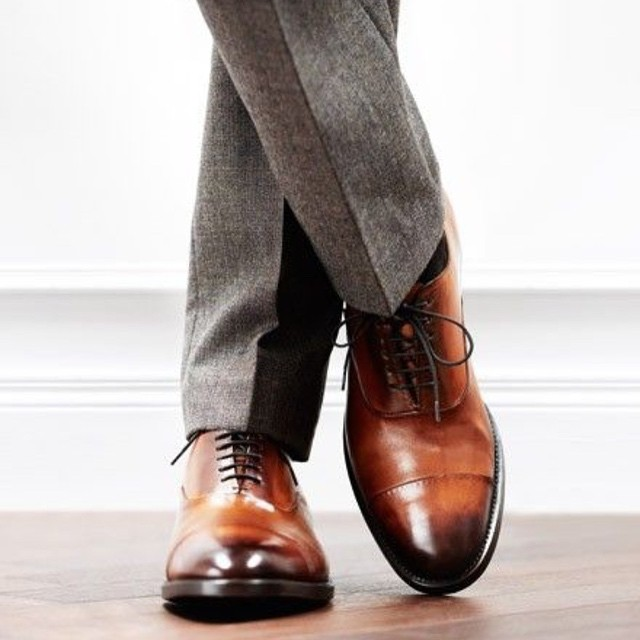sneaker: (318, 150, 525, 614), (143, 390, 354, 635)
